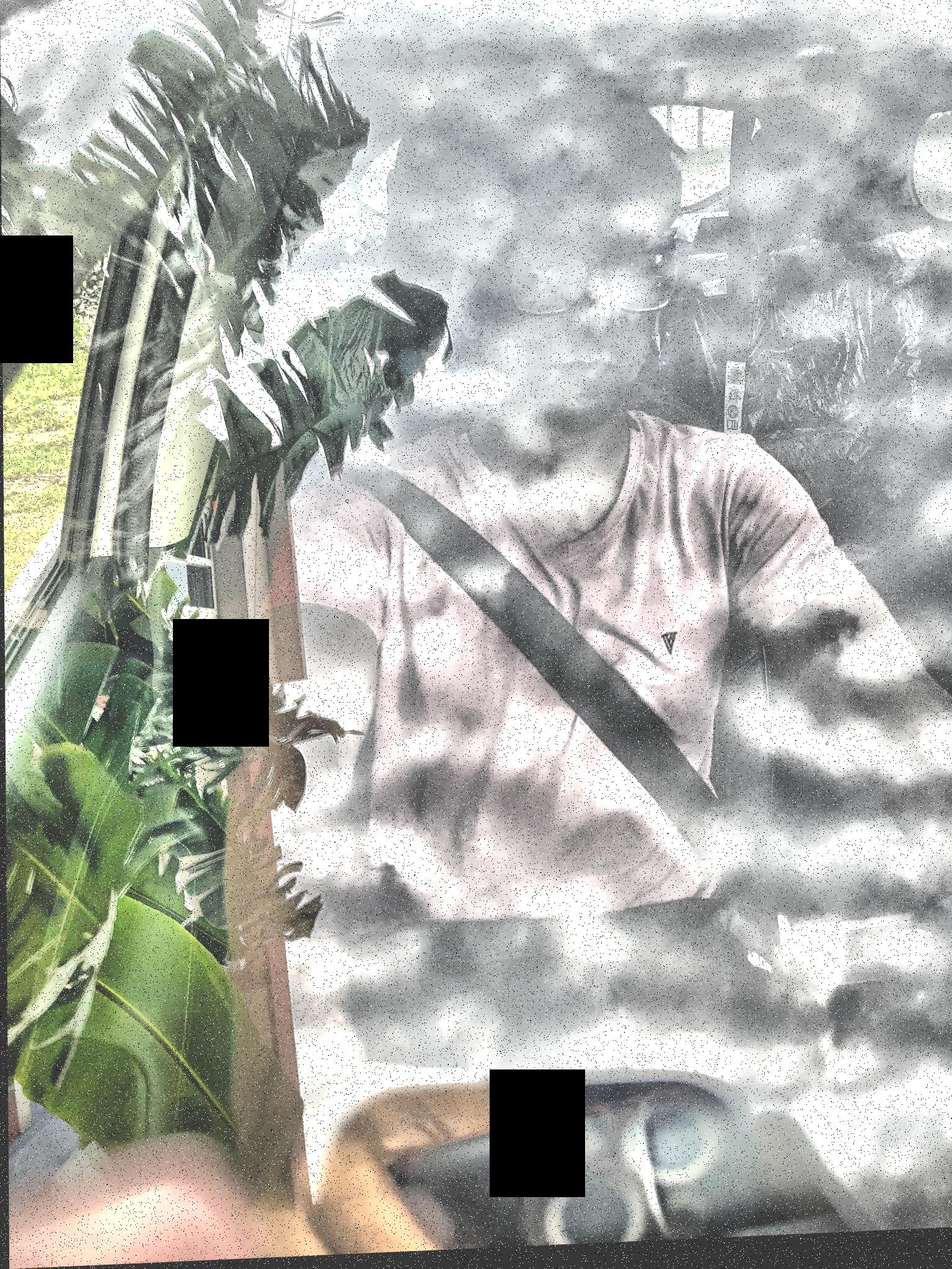seatbelt: (195, 338, 808, 996)
